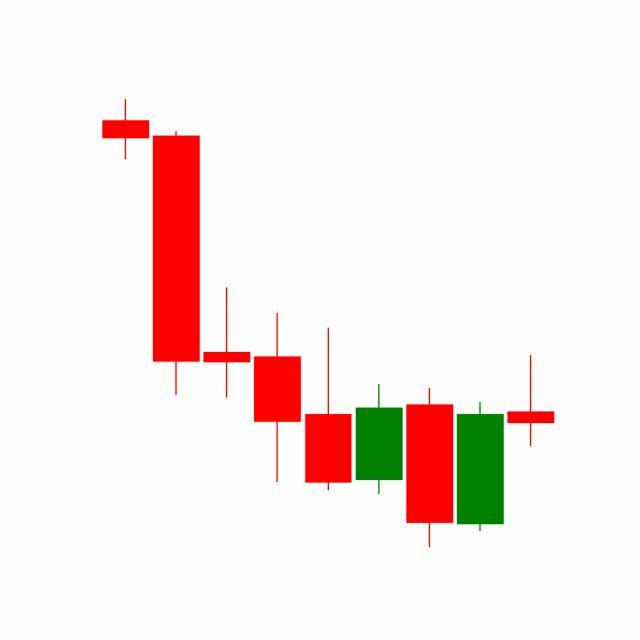Hikkake Pattern: (302, 325, 555, 549)
